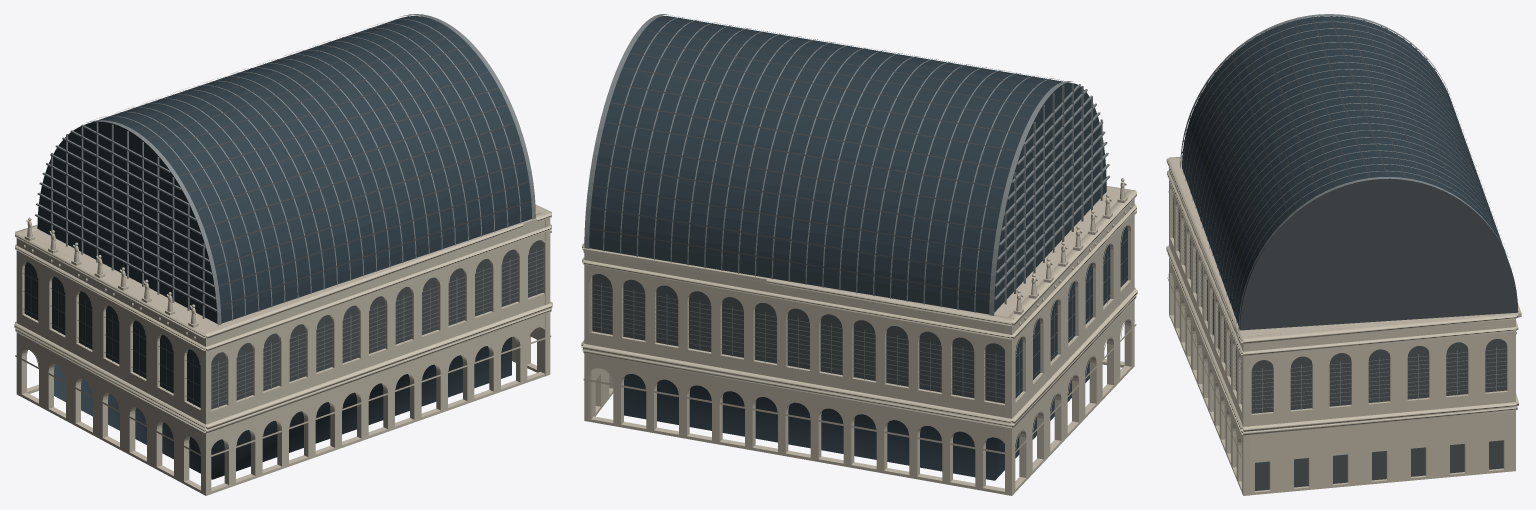
The model's file is opera-de-lyon-near.glb.
3 views of the same model, side by side, from view 1: azimuth 30°, elevation 25°; view 2: azimuth 150°, elevation 25°; view 3: azimuth 270°, elevation 25° (orthographic). The views are drawn at different scales.
Parts seen in each view (by area): view 1: opera-de-lyon-0-glass, opera-de-lyon-0-stone, opera-de-lyon-0-steel, opera-de-lyon-0-shutter, opera-de-lyon-0-glow; view 2: opera-de-lyon-0-glass, opera-de-lyon-0-stone, opera-de-lyon-0-steel, opera-de-lyon-0-shutter, opera-de-lyon-0-glow; view 3: opera-de-lyon-0-stone, opera-de-lyon-0-glass, opera-de-lyon-0-shutter, opera-de-lyon-0-steel, opera-de-lyon-0-glow.
Boxes of the visible parts, x1,y1,x2,y2 form: opera-de-lyon-0-glass: [24, 16, 531, 479]; opera-de-lyon-0-stone: [14, 204, 552, 495]; opera-de-lyon-0-steel: [23, 14, 544, 407]; opera-de-lyon-0-shutter: [211, 240, 542, 409]; opera-de-lyon-0-glow: [104, 15, 530, 305]; opera-de-lyon-0-glass: [589, 15, 1127, 480]; opera-de-lyon-0-stone: [581, 178, 1137, 495]; opera-de-lyon-0-steel: [584, 14, 1129, 402]; opera-de-lyon-0-shutter: [592, 274, 1004, 403]; opera-de-lyon-0-glow: [590, 14, 1063, 295]; opera-de-lyon-0-stone: [1166, 157, 1521, 495]; opera-de-lyon-0-glass: [1182, 16, 1507, 329]; opera-de-lyon-0-shutter: [1173, 179, 1518, 490]; opera-de-lyon-0-steel: [1171, 14, 1508, 413]; opera-de-lyon-0-glow: [1181, 16, 1501, 310].
Size of the model in its own units: 60.55 by 42.18 by 45.23.
